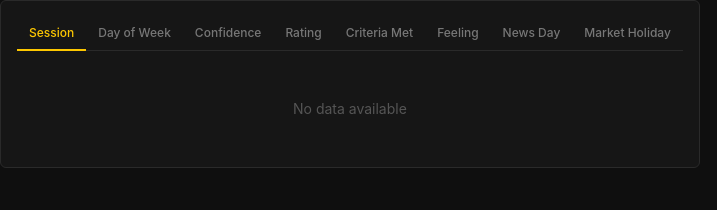
it: UnifiedBreakdowns — News Day / Market Holiday tabs › shows the holiday coverage date on the Market Holiday tab
The width and height of the screenshot is (717, 210).
Click the button "Market Holiday" at (628,34), box [572,17,683,51]
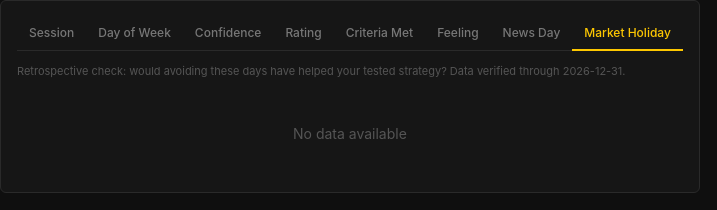
expect the text "Data verified through 2026-12-31" is shown: met, box [17,64,626,78]
